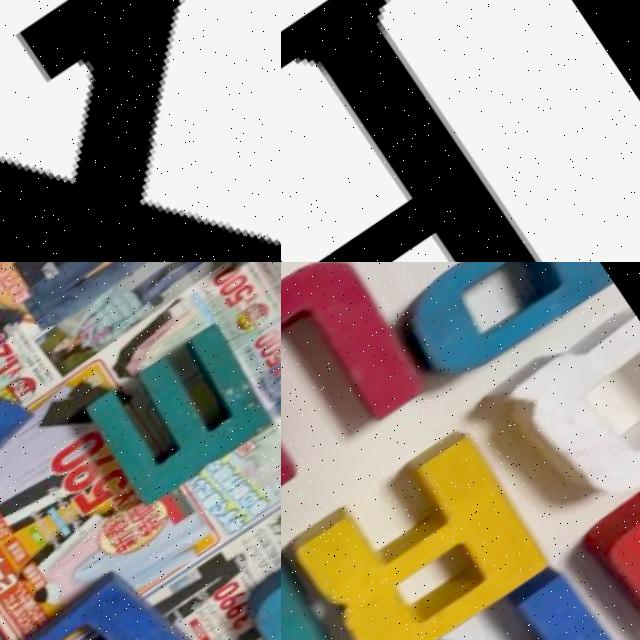B: (0, 563, 201, 640)
M: (65, 322, 281, 521)
N: (379, 563, 632, 640)
P: (281, 0, 536, 262), (353, 262, 618, 403), (206, 484, 281, 640)
R: (281, 425, 554, 640)
T: (0, 320, 47, 536)
U: (281, 262, 423, 515)
W: (559, 448, 640, 640)
X: (0, 0, 281, 262)
